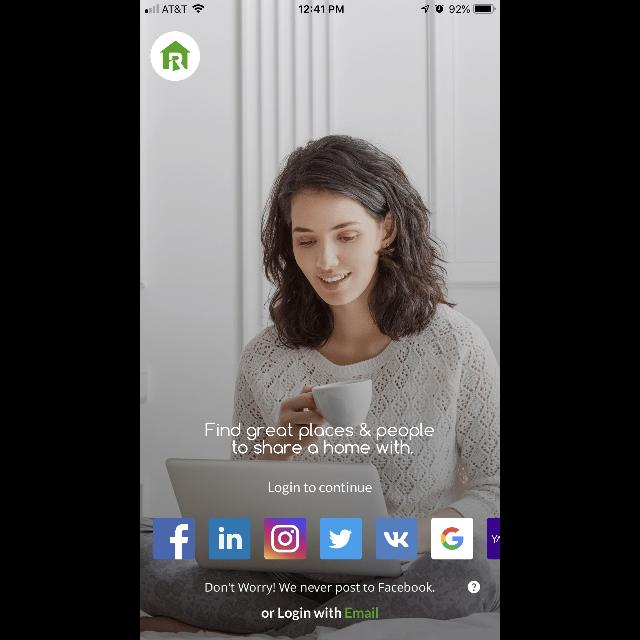backgroundimage: (140, 1, 500, 640)
icon: (151, 31, 201, 81), (153, 518, 195, 560), (320, 518, 362, 560), (431, 518, 473, 560), (468, 580, 480, 594)
image: (209, 518, 251, 560), (264, 518, 306, 560), (375, 518, 417, 560), (486, 518, 499, 560)
text: (206, 422, 434, 453), (206, 582, 434, 594), (262, 608, 378, 620), (268, 482, 372, 494)
uppertaskbar: (140, 0, 500, 14)
